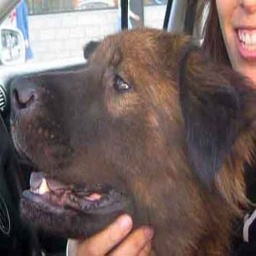dog: (10, 25, 256, 256)
